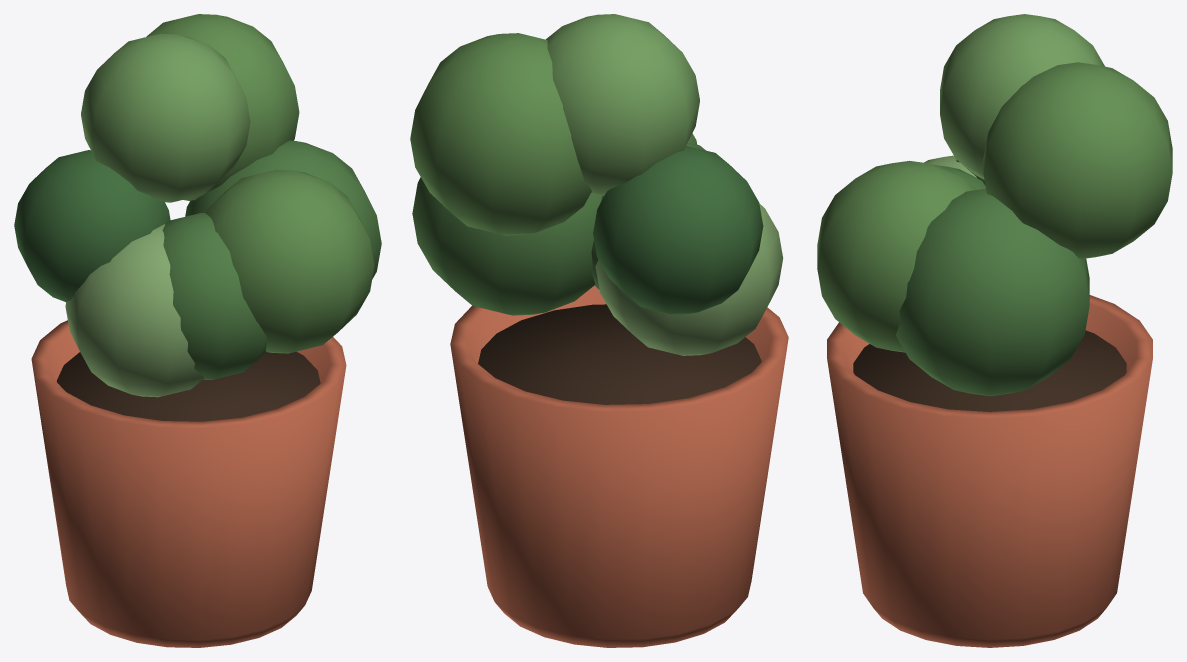
File: i_plant_0.glb
3 views of the same model, side by side, from view 1: azimuth 30°, elevation 25°; view 2: azimuth 150°, elevation 25°; view 3: azimuth 270°, elevation 25° (orthographic). The views are drawn at different scales.
Parts seen in each view (by area): view 1: o, o.004, o.008, o.006, o.005, o.007, o.001, o.003, o.002; view 2: o, o.003, o.005, o.004, o.001, o.002, o.006; view 3: o, o.002, o.003, o.008, o.004, o.001.
Part boxes in pixels (x1,y1,x2,y2): o: (31,320,346,647); o.004: (81,33,250,202); o.008: (205,169,374,353); o.006: (65,224,203,397); o.005: (14,150,170,301); o.007: (162,213,267,379); o.001: (56,351,320,421); o.003: (146,14,299,200); o.002: (185,140,381,278); o: (450,285,788,647); o.003: (410,33,591,235); o.005: (593,146,763,314); o.004: (546,14,699,195); o.001: (478,304,761,404); o.002: (412,177,601,315); o.006: (595,203,783,355); o: (827,295,1152,647); o.002: (896,188,1089,396); o.003: (983,62,1172,258); o.008: (817,160,977,352); o.004: (940,14,1104,179); o.001: (853,330,1126,411).
Size of the model in its own units: 0.2847 by 0.4609 by 0.259.
